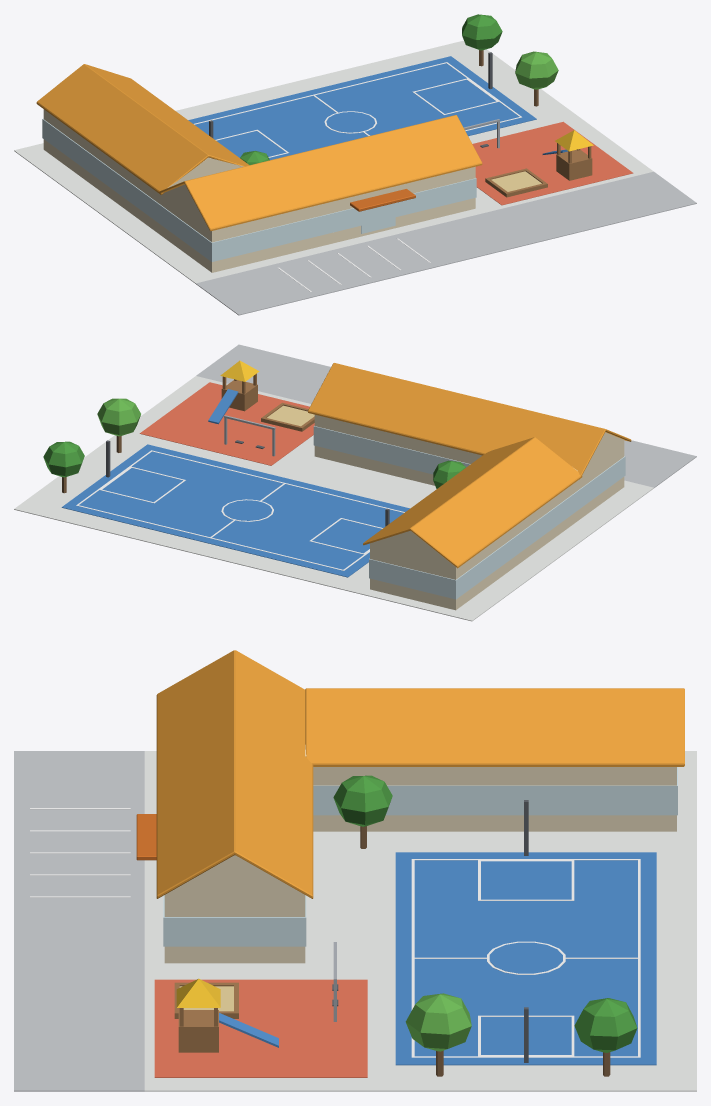
The model's file is school.glb.
3 views of the same model, one above another, from view 1: azimuth 30°, elevation 25°; view 2: azimuth 150°, elevation 25°; view 3: azimuth 270°, elevation 25° (orthographic). The views are drawn at different scales.
Parts seen in each view (by area): view 1: school; view 2: school; view 3: school.
Boxes of the visible parts, left/top/right/bottom form: school: left=14, top=14, right=696, bottom=315; school: left=14, top=344, right=696, bottom=621; school: left=14, top=650, right=696, bottom=1091.
Size of the model in its own units: 40 by 6.37 by 34.
